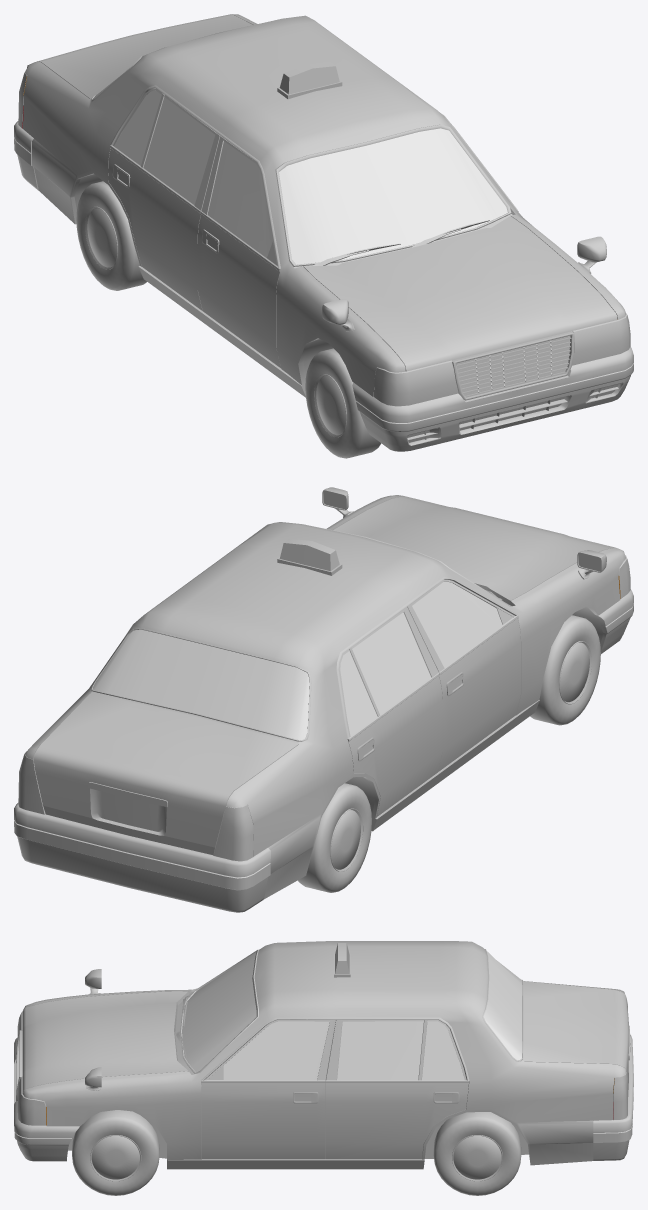
Rendered from Taxi.fbx.
3 views of the same model, one above another, from view 1: azimuth 30°, elevation 25°; view 2: azimuth 150°, elevation 25°; view 3: azimuth 270°, elevation 25° (orthographic). The views are drawn at different scales.
Visible parts, largest first — view 1: Body, Windows, WheelBR, WheelFR; view 2: Body, Windows, WheelBR, WheelFR; view 3: Body, Windows, WheelFL, WheelBL.
Part boxes in pixels (left/top/right/bottom): Body: left=14, top=14, right=633, bottom=451; Windows: left=93, top=76, right=507, bottom=264; WheelBR: left=76, top=181, right=146, bottom=290; WheelFR: left=305, top=348, right=381, bottom=458; Body: left=14, top=487, right=633, bottom=912; Windows: left=93, top=582, right=511, bottom=740; WheelBR: left=298, top=783, right=371, bottom=892; WheelFR: left=530, top=615, right=600, bottom=725; Body: left=14, top=941, right=633, bottom=1169; Windows: left=182, top=951, right=522, bottom=1080; WheelFL: left=72, top=1110, right=159, bottom=1195; WheelBL: left=433, top=1112, right=521, bottom=1195.
Size of what is drawn, in the model's own units: 189 by 165 by 460.
